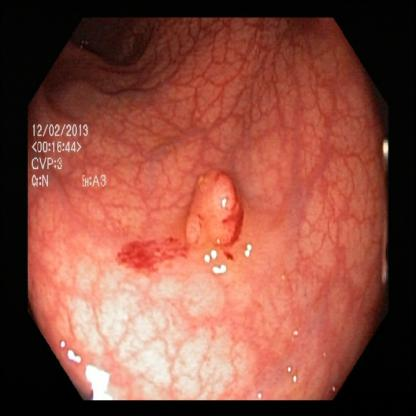Labels: (28, 118, 111, 195)
Polyps: (177, 165, 255, 256)
